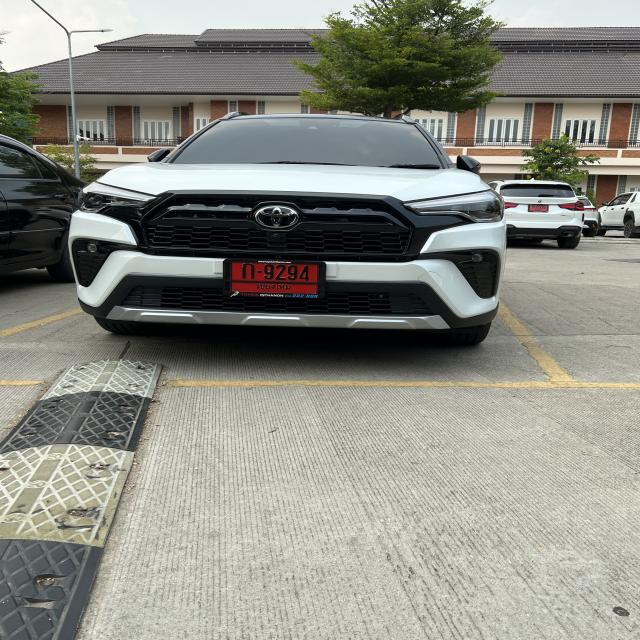license_plate: (224, 256, 328, 301)
